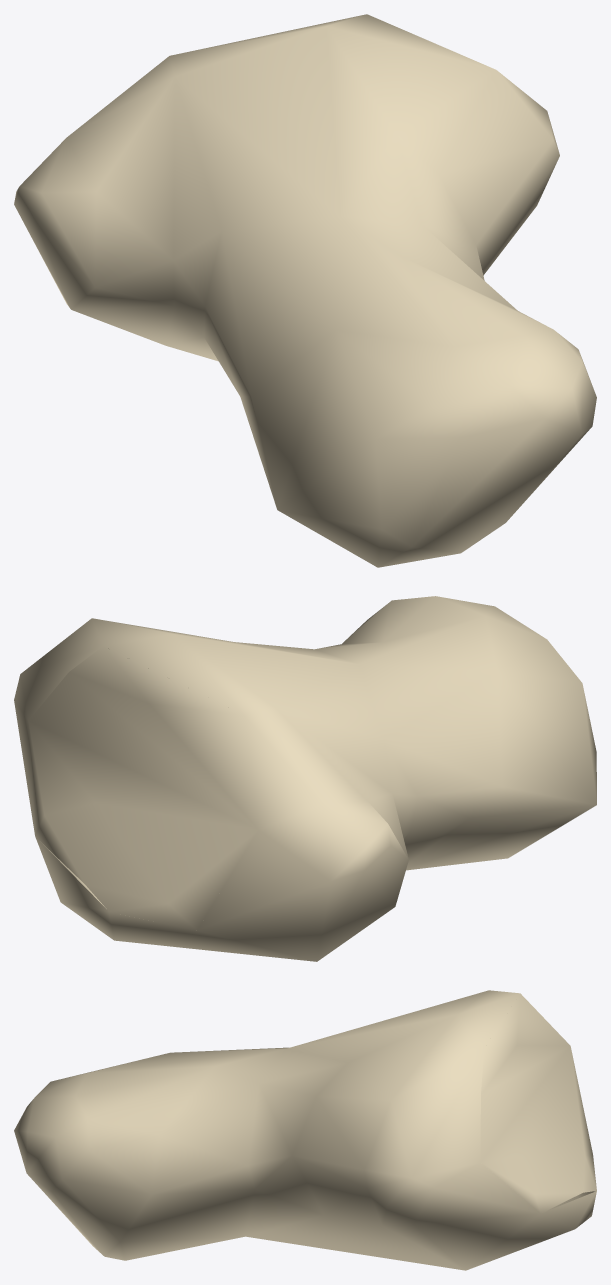
The model's file is esqueleto-distal-phalanx-of-fifth-finger-of-foot-r.glb.
3 views of the same model, one above another, from view 1: azimuth 30°, elevation 25°; view 2: azimuth 150°, elevation 25°; view 3: azimuth 270°, elevation 25° (orthographic). The views are drawn at different scales.
Parts seen in each view (by area): view 1: Distal phalanx of fifth finger of foot.r; view 2: Distal phalanx of fifth finger of foot.r; view 3: Distal phalanx of fifth finger of foot.r.
Boxes of the visible parts, left/top/right/bottom form: Distal phalanx of fifth finger of foot.r: left=14, top=14, right=596, bottom=567; Distal phalanx of fifth finger of foot.r: left=14, top=596, right=596, bottom=961; Distal phalanx of fifth finger of foot.r: left=14, top=990, right=596, bottom=1270.
Size of the model in its own units: 0.00789 by 0.00563 by 0.0109.
